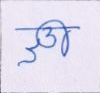i_matra: (52, 19, 69, 55)
